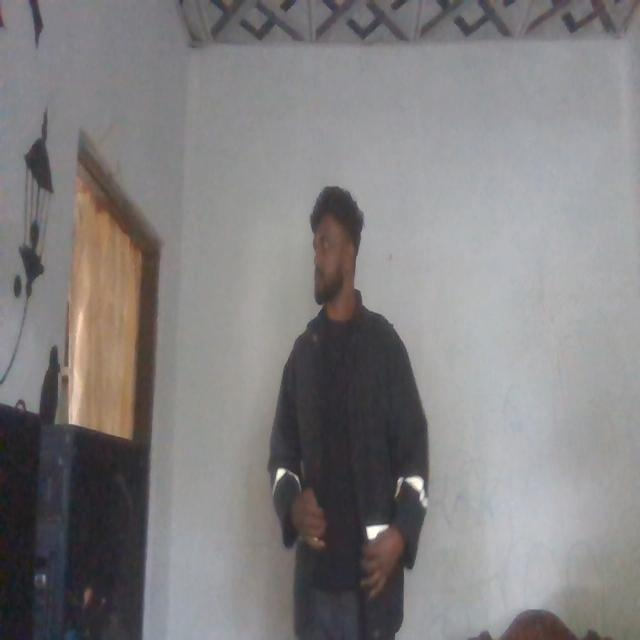Jacket_Wearer: (264, 292, 430, 602)
Person: (258, 182, 432, 640)
